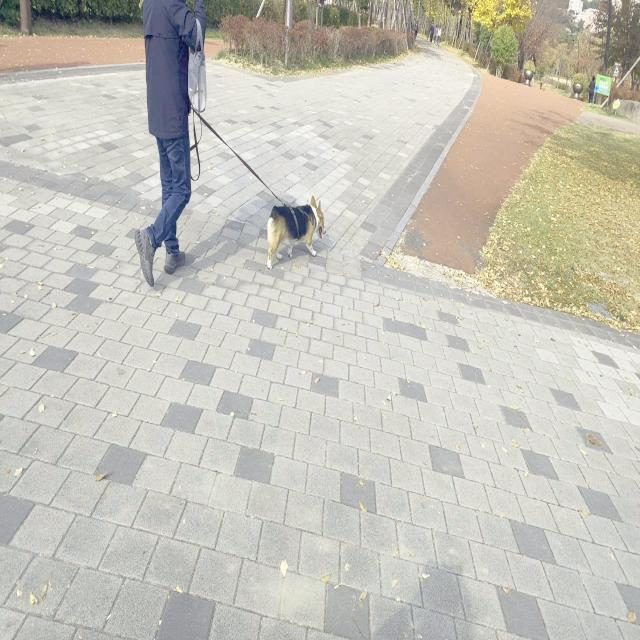Leashed_Dog: (172, 97, 326, 270)
